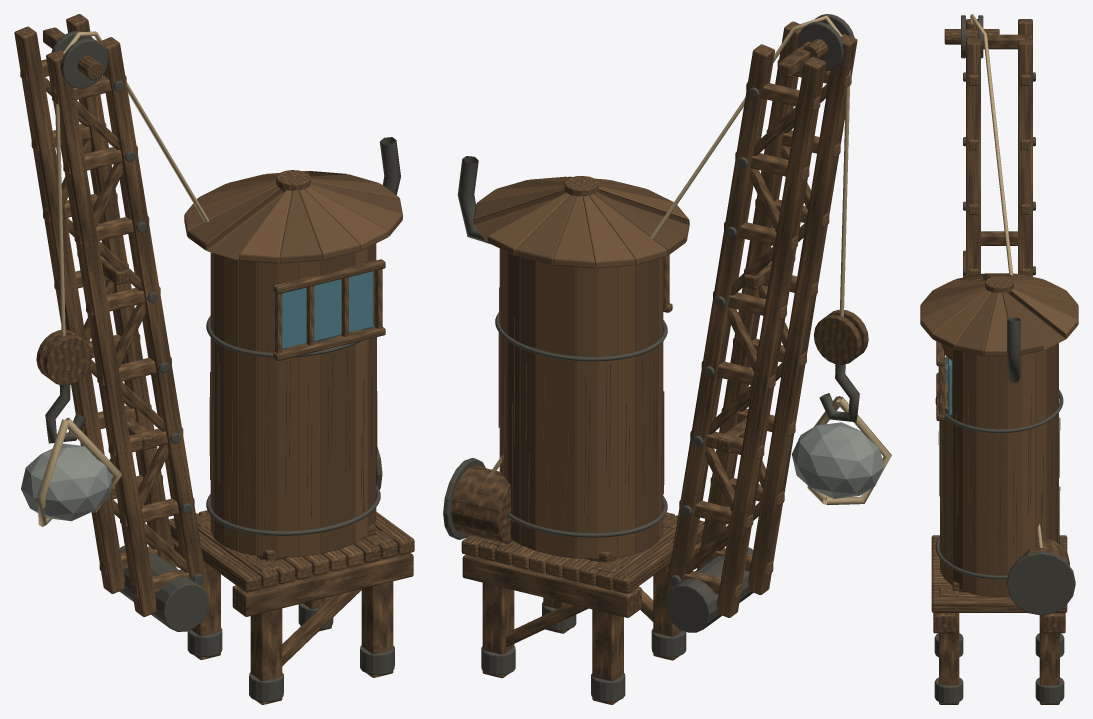
The model's file is blender.glb.
3 views of the same model, side by side, from view 1: azimuth 30°, elevation 25°; view 2: azimuth 150°, elevation 25°; view 3: azimuth 270°, elevation 25° (orthographic). The views are drawn at different scales.
Parts seen in each view (by area): view 1: Surface - Oak weathered 2, Surface - Oak weathered 1, Surface - Oak weathered 0, Surface - Oak weathered 5, Surface - Forged iron, Surface - Oak weathered 3, Surface - Oak weathered 6, Surface - Oak weathered 4, Surface - Stone, Surface - Blue glazed window, Surface - Wood fissures, Surface - Hemp.001 (+3 smaller); view 2: Surface - Oak weathered 2, Surface - Oak weathered 1, Surface - Oak weathered 0, Surface - Oak weathered 5, Surface - Forged iron, Surface - Oak weathered 3, Surface - Oak weathered 4, Surface - Oak weathered 6, Surface - Stone, Surface - Wood fissures, Surface - Hemp.001, Surface - Oak weathered 0.001 (+2 smaller); view 3: Surface - Oak weathered 2, Surface - Oak weathered 0, Surface - Oak weathered 1, Surface - Forged iron, Surface - Oak weathered 3, Surface - Oak weathered 5, Surface - Oak weathered 4, Surface - Oak weathered 6, Surface - Wood fissures, Surface - Hemp.
Boxes of the visible parts, x1=… form: Surface - Oak weathered 2: x1=14, y1=14, x2=414, y2=616; Surface - Oak weathered 1: x1=44, y1=77, x2=397, y2=704; Surface - Oak weathered 0: x1=43, y1=27, x2=413, y2=616; Surface - Oak weathered 5: x1=20, y1=59, x2=382, y2=597; Surface - Forged iron: x1=51, y1=30, x2=400, y2=701; Surface - Oak weathered 3: x1=184, y1=179, x2=402, y2=665; Surface - Oak weathered 6: x1=224, y1=171, x2=367, y2=567; Surface - Oak weathered 4: x1=187, y1=174, x2=402, y2=575; Surface - Stone: x1=21, y1=443, x2=112, y2=521; Surface - Blue glazed window: x1=274, y1=271, x2=373, y2=349; Surface - Wood fissures: x1=209, y1=335, x2=377, y2=539; Surface - Hemp.001: x1=37, y1=86, x2=121, y2=526; Surface - Oak weathered 2: x1=461, y1=21, x2=857, y2=617; Surface - Oak weathered 1: x1=478, y1=84, x2=828, y2=704; Surface - Oak weathered 0: x1=451, y1=39, x2=827, y2=617; Surface - Oak weathered 5: x1=473, y1=59, x2=851, y2=598; Surface - Forged iron: x1=443, y1=14, x2=854, y2=701; Surface - Oak weathered 3: x1=477, y1=176, x2=667, y2=647; Surface - Oak weathered 4: x1=473, y1=180, x2=686, y2=577; Surface - Oak weathered 6: x1=487, y1=187, x2=688, y2=569; Surface - Stone: x1=791, y1=422, x2=883, y2=498; Surface - Wood fissures: x1=498, y1=287, x2=664, y2=530; Surface - Hemp.001: x1=807, y1=69, x2=891, y2=505; Surface - Oak weathered 0.001: x1=814, y1=309, x2=868, y2=364; Surface - Oak weathered 2: x1=920, y1=19, x2=1067, y2=612; Surface - Oak weathered 0: x1=921, y1=29, x2=1078, y2=633; Surface - Oak weathered 1: x1=920, y1=284, x2=1077, y2=704; Surface - Forged iron: x1=934, y1=15, x2=1075, y2=703; Surface - Oak weathered 3: x1=931, y1=273, x2=1046, y2=563; Surface - Oak weathered 5: x1=931, y1=75, x2=1065, y2=578; Surface - Oak weathered 4: x1=931, y1=273, x2=1054, y2=570; Surface - Oak weathered 6: x1=931, y1=279, x2=1078, y2=584; Surface - Wood fissures: x1=938, y1=391, x2=1060, y2=575; Surface - Hemp: x1=970, y1=14, x2=1042, y2=547.
Size of the model in its own units: 2.62 by 4.39 by 1.1.
12 materials, 7 textured.
